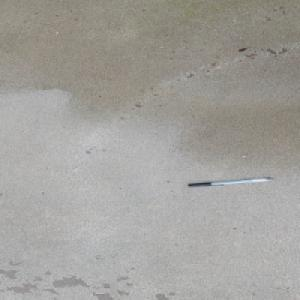Pen: (186, 176, 273, 187)
